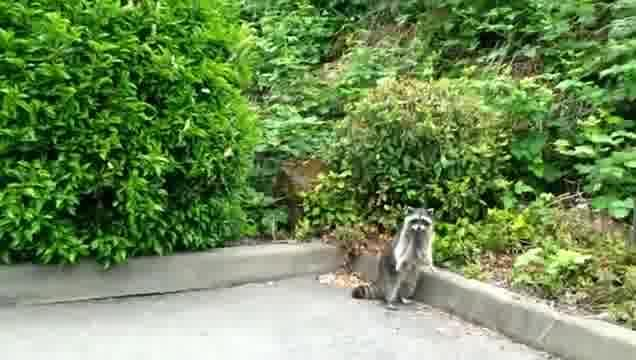raccoon: (350, 207, 437, 313)
